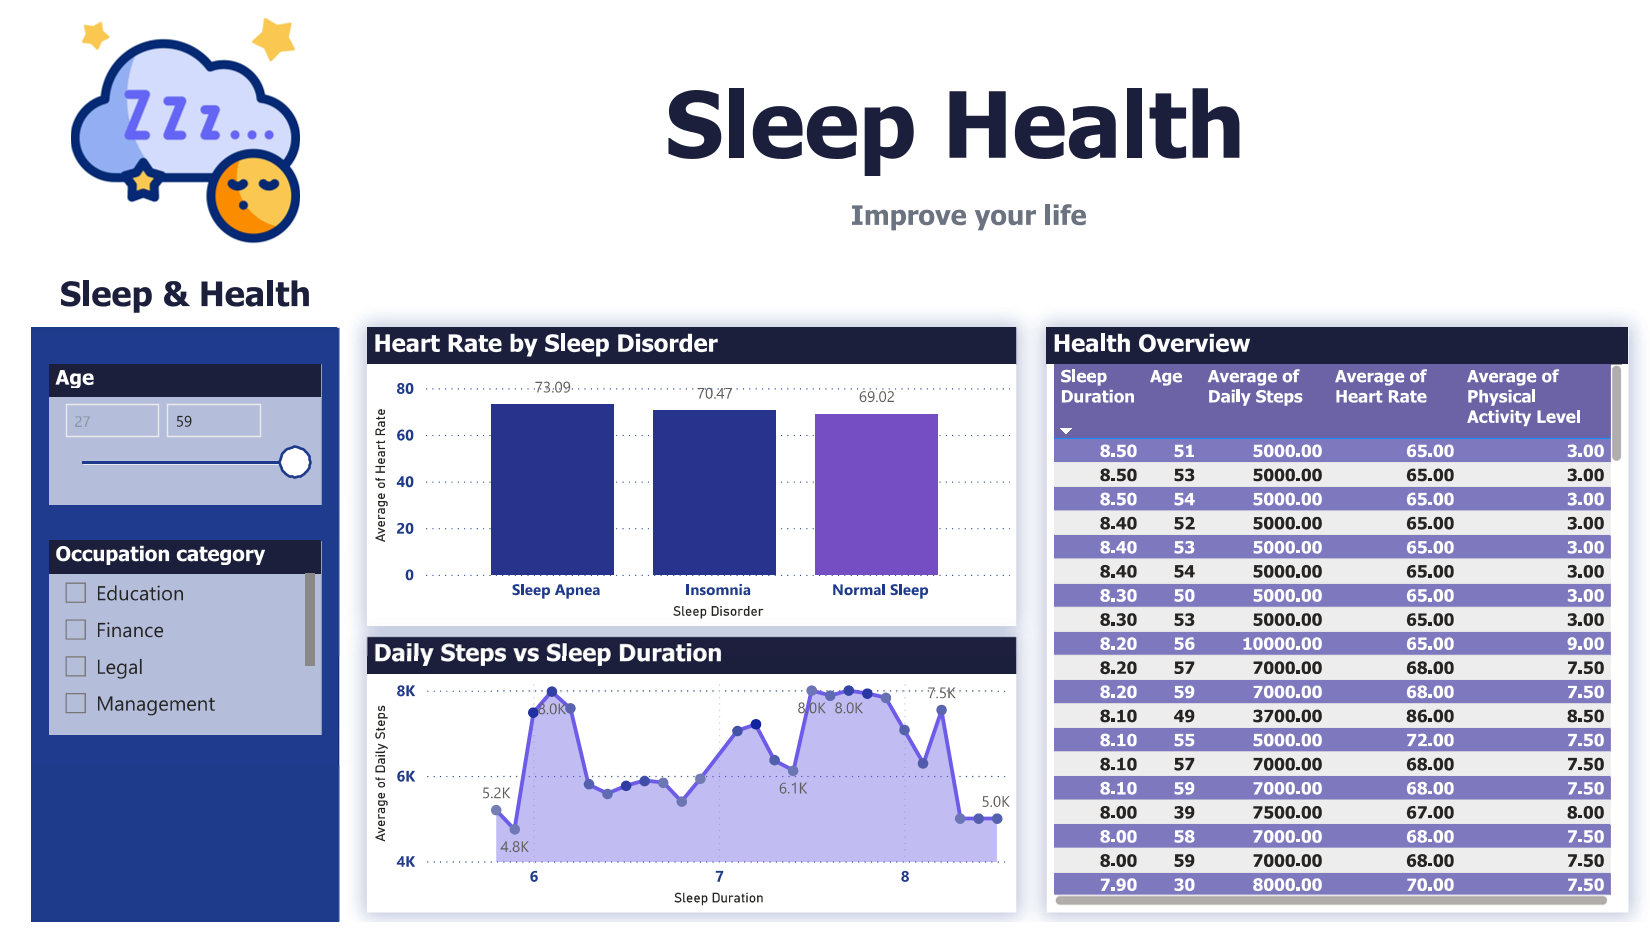

The dashboard page shown, as its layout file describes it:
{"tool":"powerbi","page":{"name":"Sleep & Health","canvas":[1280,720],"ordinal":2},"visuals":[{"type":"shape","box":[0,251.1,242.9,469.3],"z":0},{"type":"image","box":[0,0,242.9,190.7],"z":1000},{"type":"textbox","box":[264.8,39.8,949.6,150.9],"z":2000},{"type":"textbox","box":[0,201.7,242.9,78.2],"z":3000},{"type":"lineChart","title":"Daily Steps vs Sleep Duration","fields":{"Category":["clean_data.Sleep Duration"],"Y":["Avg(clean_data.Daily Steps)"]},"box":[264.8,495.4,511.8,216.8],"z":4000},{"type":"slicer","title":"Age","fields":{"Values":["clean_data.Age"]},"box":[13.7,279.9,215.4,111.1],"z":5000},{"type":"slicer","title":"Occupation category","fields":{"Values":["clean_data.Occupation category"]},"box":[13.7,418.5,215.4,153.7],"z":6000},{"type":"clusteredColumnChart","title":"Heart Rate by Sleep Disorder","fields":{"Category":["clean_data.Sleep Disorder"],"Y":["Avg(clean_data.Heart Rate)"]},"box":[264.8,251.1,511.8,234.6],"z":7000},{"type":"tableEx","title":"Health Overview","fields":{"Values":["clean_data.Sleep Duration","clean_data.Age","Avg(clean_data.Daily Steps)","Avg(clean_data.Heart Rate)","Avg(clean_data.Physical Activity Level)"]},"box":[801.4,251.1,458.3,461.1],"z":8000}]}

Visuals, with their boxes in screenshot pixels (x1, y1, x2, y2), scaled from the page's 1280x720 canvas onto the 1650x934 screenshot:
shape: x1=0 y1=326 x2=313 y2=933
image: x1=0 y1=0 x2=313 y2=247
textbox: x1=341 y1=52 x2=1565 y2=247
textbox: x1=0 y1=262 x2=313 y2=363
"Daily Steps vs Sleep Duration" lineChart: x1=341 y1=643 x2=1001 y2=924
"Age" slicer: x1=18 y1=363 x2=295 y2=507
"Occupation category" slicer: x1=18 y1=543 x2=295 y2=742
"Heart Rate by Sleep Disorder" clusteredColumnChart: x1=341 y1=326 x2=1001 y2=630
"Health Overview" tableEx: x1=1033 y1=326 x2=1624 y2=924
